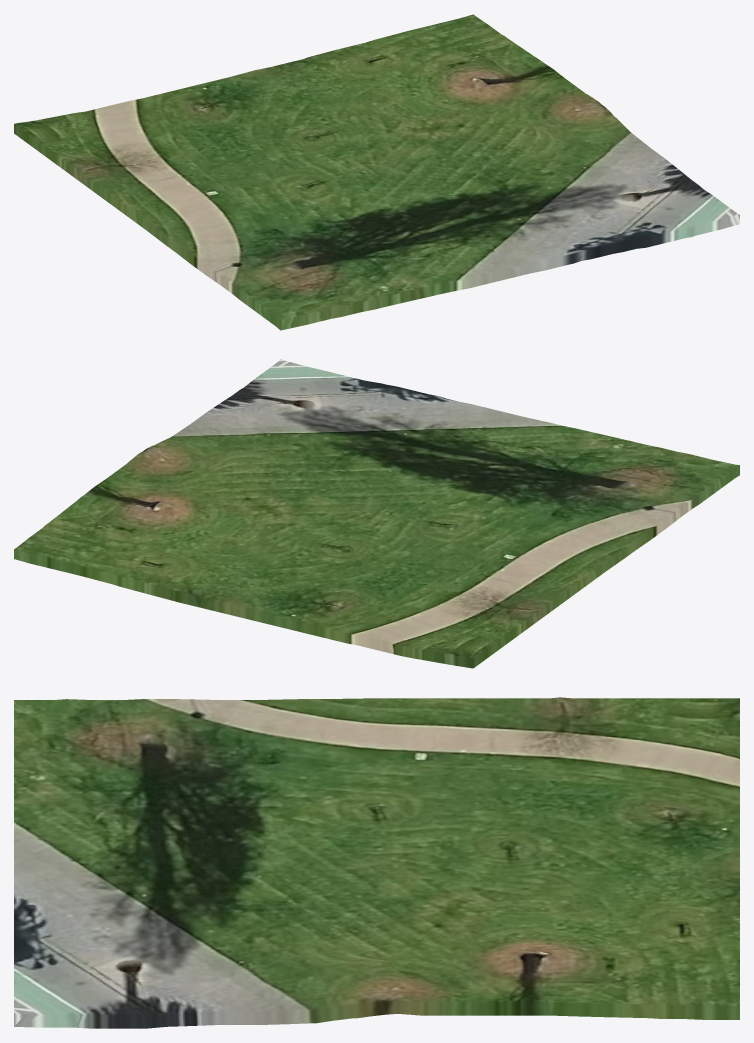
Rendered from z20-167785-405218-h0-yup-uvflip-v3-world.glb.
The picture shows the model from 3 angles, top to bottom: view 1: azimuth 30°, elevation 25°; view 2: azimuth 150°, elevation 25°; view 3: azimuth 270°, elevation 25°; orthographic projection. The views are drawn at different scales.
Size of the model in its own units: 30.16 by 1.4 by 30.32.
Materials: 1 (1 with a texture image).
